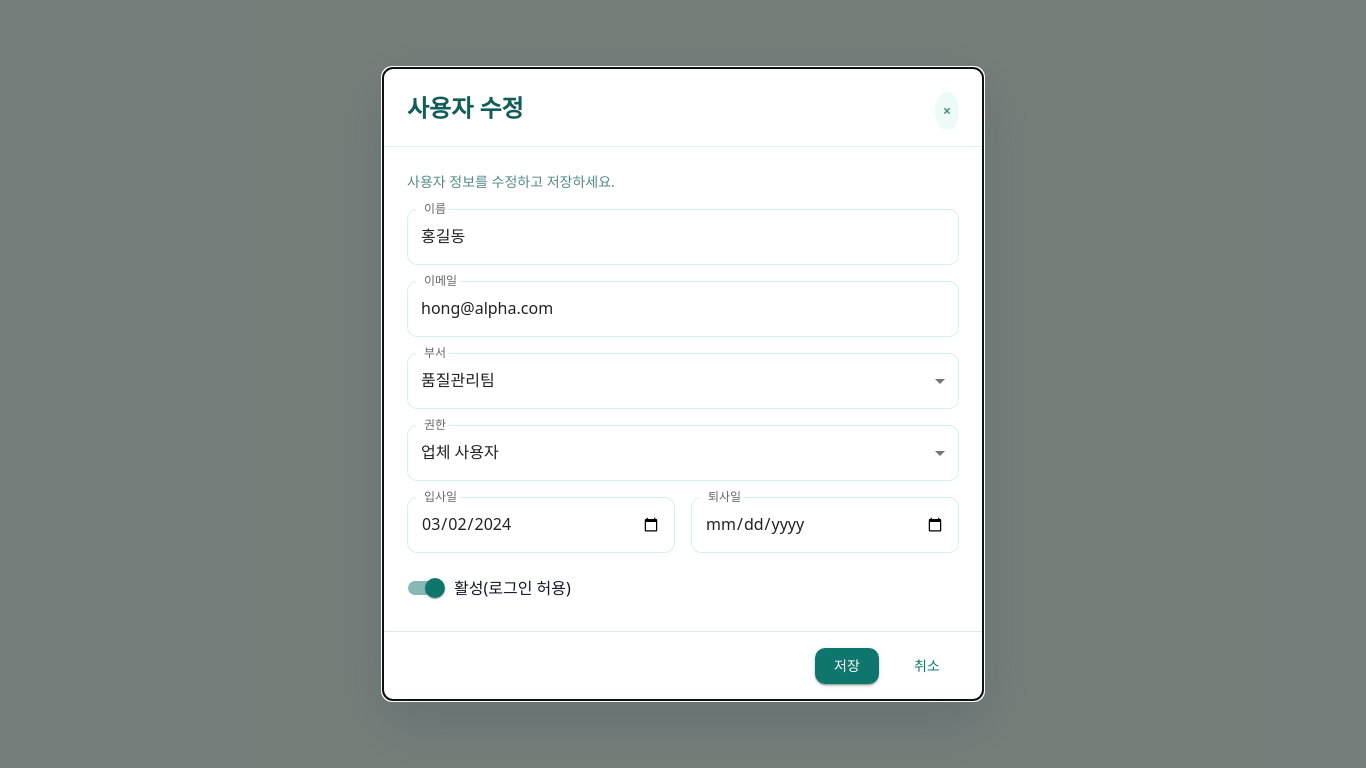
Test: UserFormDialog › blocks saving when email format is invalid
Expected: the button "저장" is enabled, top-left (815, 648), bottom-right (879, 684)
Expected: the text "이메일 형식이 올바르지 않습니다." is not shown
Replace the text in the field labelled "이메일" with "hong@alpha": (683, 309) top-left (407, 281), bottom-right (959, 337)
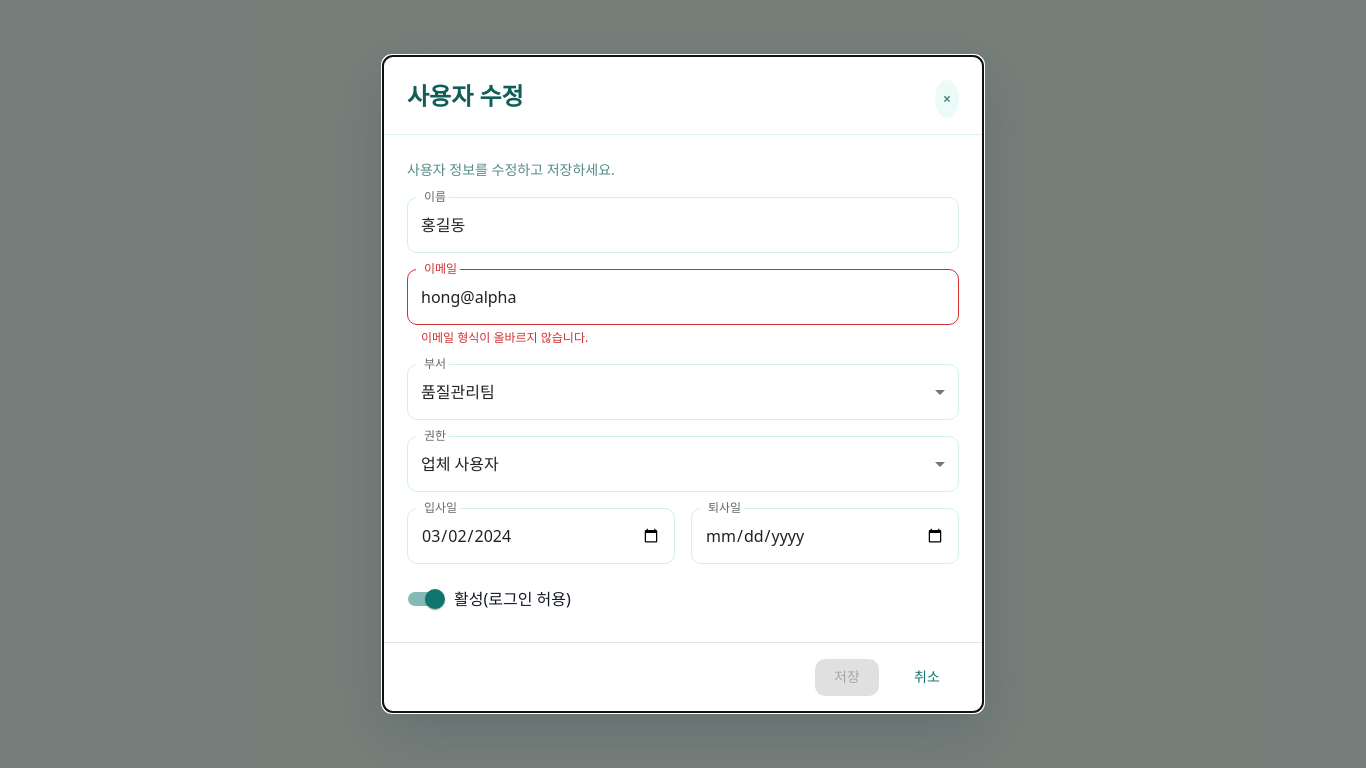
Result: the text "이메일 형식이 올바르지 않습니다." is shown at top-left (421, 330), bottom-right (588, 346)
Result: the button "저장" is disabled at top-left (815, 659), bottom-right (879, 696)
